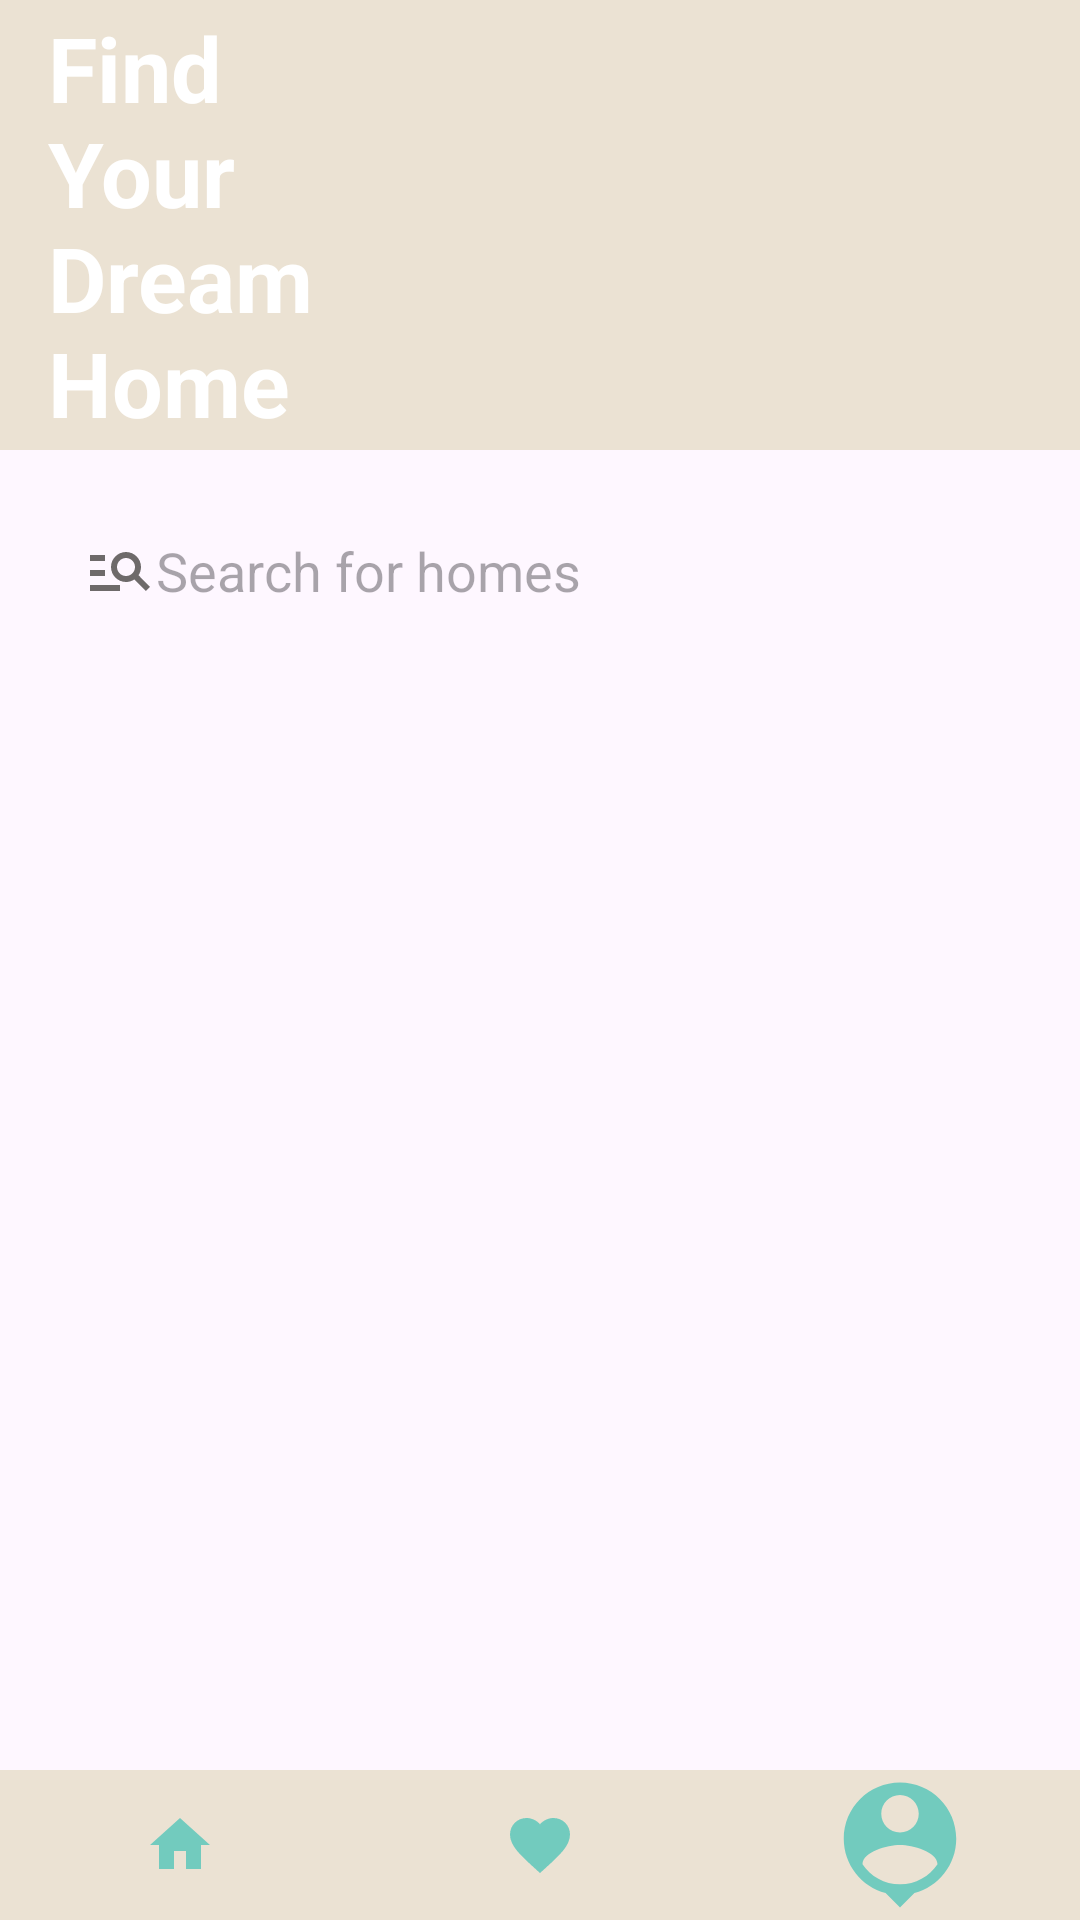

Named icons in this screenshot (1080 × 1920) and their bounding boxes, (x1, y1, x2, y2):
FAVORITE: (510, 1818, 570, 1873)
HOME: (150, 1818, 210, 1869)
PROFILE: (843, 1782, 957, 1907)
